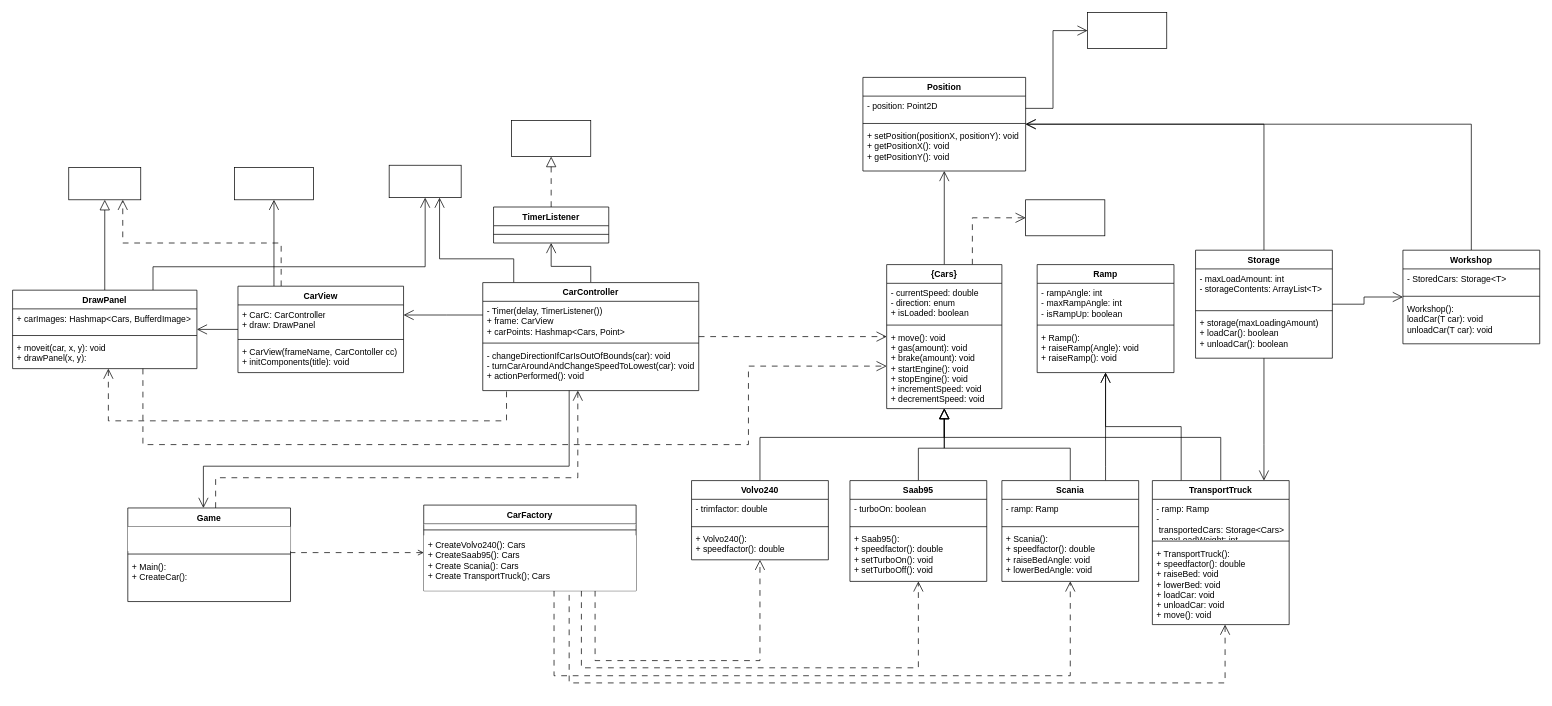
Some shapes in this 1552 by 706 pixel diagram are drawn without their labels. Each missing label, with the centre of its shape:
"+ cars: Arraylist<Cars>" goes at point (208, 538).
"Hashmap" goes at point (424, 181).
"JFrame" goes at point (274, 183).
"Jpanel" goes at point (104, 183).
"Point2D" goes at point (1127, 30).
"«interface» ActionListener" goes at point (551, 138).
"«interface» Movable" goes at point (1065, 217).
